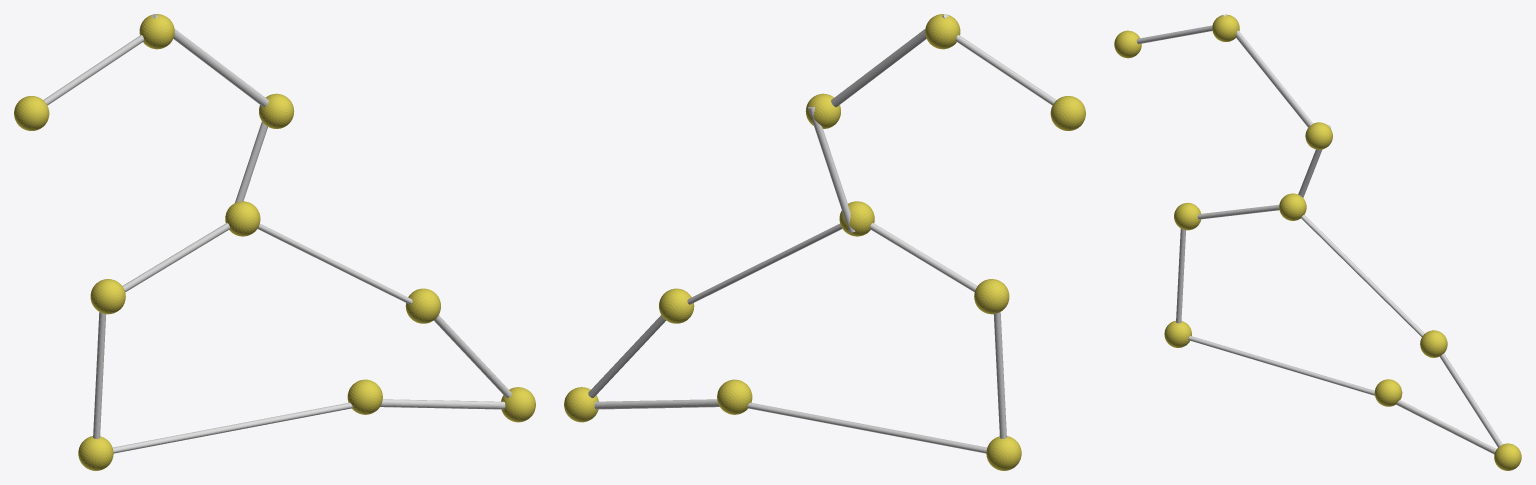
Rendered from leo.glb.
3 renders of one model, left to right at view 1: azimuth 30°, elevation 25°; view 2: azimuth 150°, elevation 25°; view 3: azimuth 330°, elevation 25°, orthographic. The views are drawn at different scales.
Visible parts, largest first — view 1: Mesh_Mesh_head_geo.001_lambert2SG.001; view 2: Mesh_Mesh_head_geo.001_lambert2SG.001; view 3: Mesh_Mesh_head_geo.001_lambert2SG.001.
Boxes of the visible parts, box(x1,y1,x2,y2) form: Mesh_Mesh_head_geo.001_lambert2SG.001: box(14, 14, 535, 470); Mesh_Mesh_head_geo.001_lambert2SG.001: box(564, 14, 1085, 470); Mesh_Mesh_head_geo.001_lambert2SG.001: box(1114, 14, 1521, 470).
Size of the model in its own units: 169 by 155 by 10.
